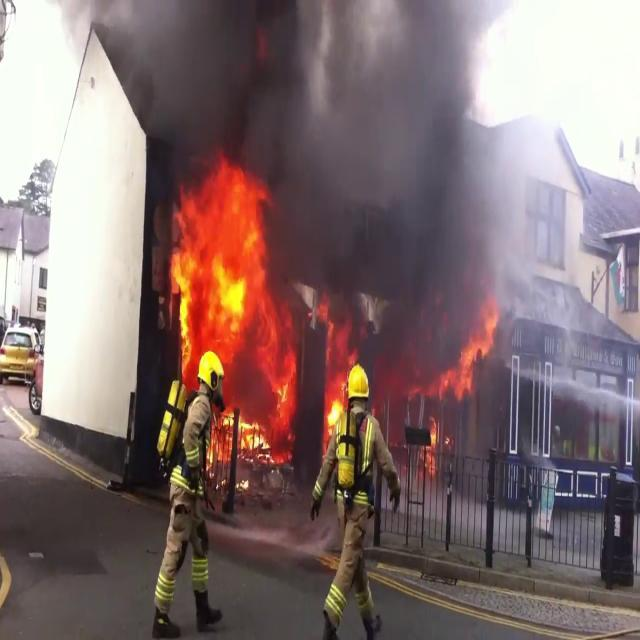Fire: (162, 157, 294, 449), (432, 294, 503, 410), (314, 304, 357, 446)
Smoke: (125, 0, 545, 363)
